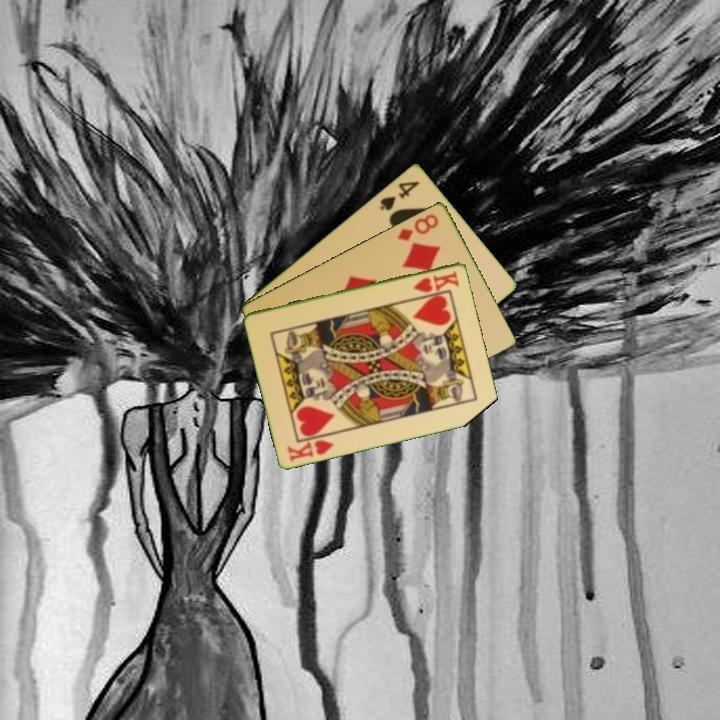4s: (376, 177, 422, 213)
8d: (394, 210, 441, 244)
Kh: (410, 267, 462, 295), (284, 436, 336, 464)
